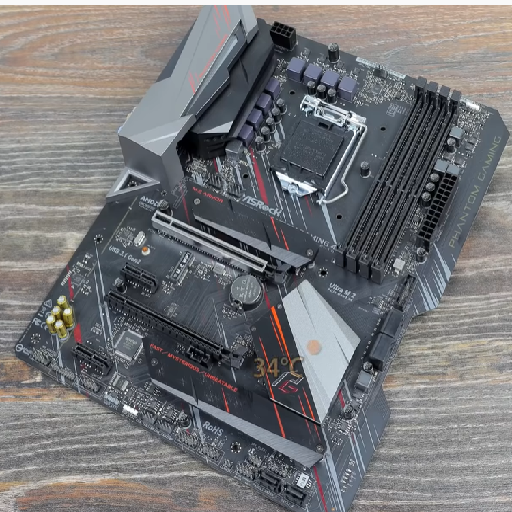CPU: (266, 91, 366, 209)
GPU: (102, 288, 252, 371), (147, 206, 294, 290)
MOTHERBOARD: (20, 5, 509, 512)
RAM: (330, 75, 463, 287)
SSD: (165, 245, 201, 290)
